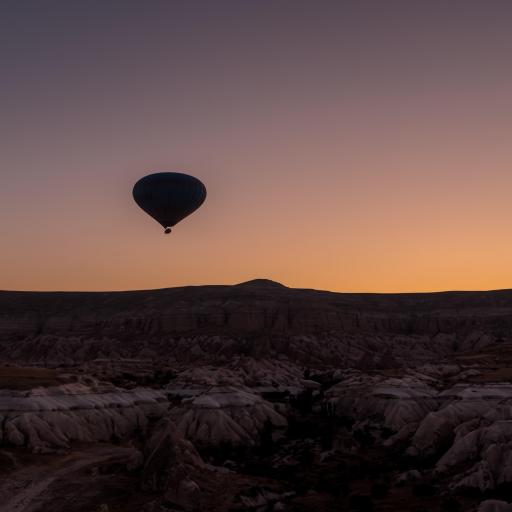hot air ballon: (132, 172, 207, 234)
